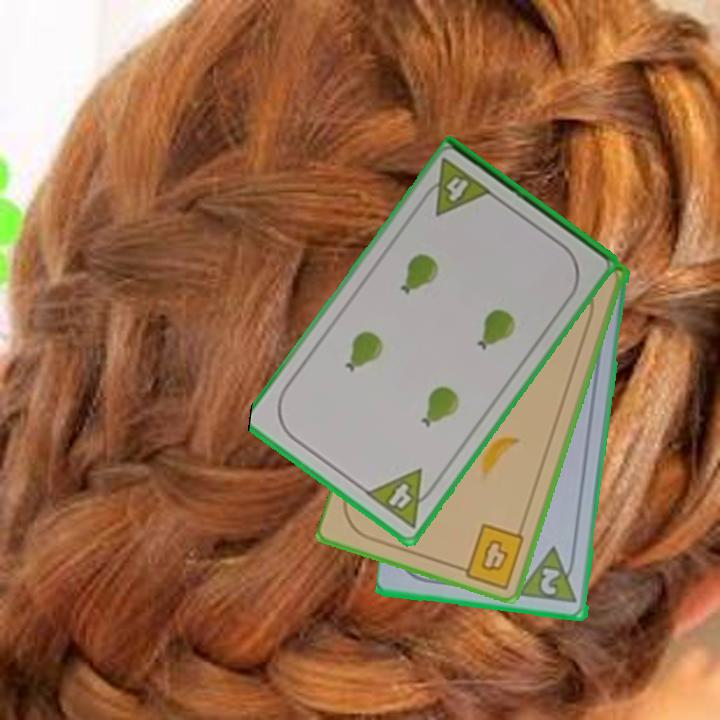2p: (537, 565, 563, 599)
4b: (453, 520, 528, 591)
4p: (362, 465, 442, 531), (416, 155, 496, 219)
